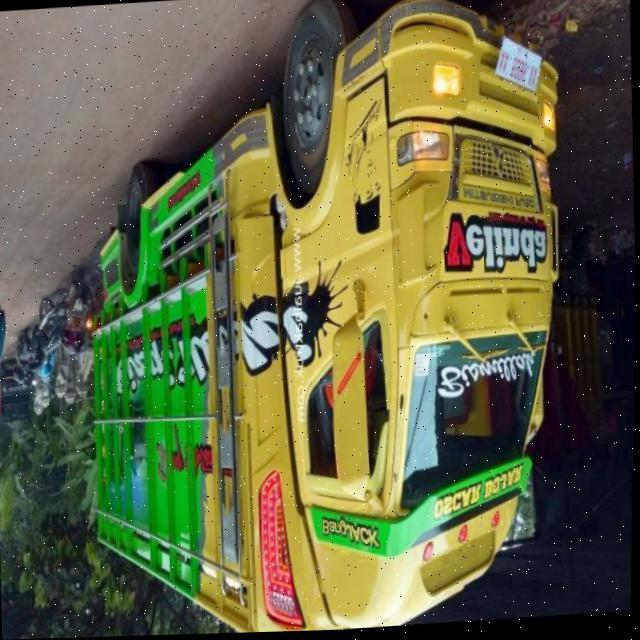truck: (77, 0, 577, 638)
